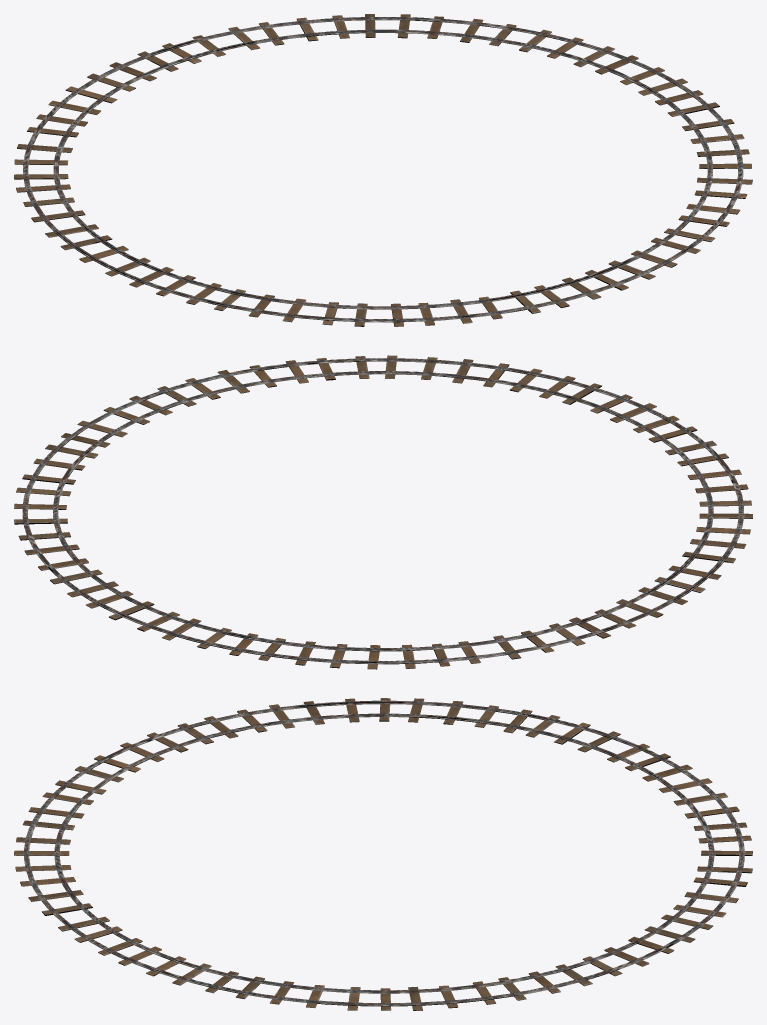
The model's file is foundry_rail_ring.glb.
The picture shows the model from 3 angles, top to bottom: view 1: azimuth 30°, elevation 25°; view 2: azimuth 150°, elevation 25°; view 3: azimuth 270°, elevation 25°; orthographic projection.
Parts seen in each view (by area): view 1: foundry_rail_ring; view 2: foundry_rail_ring; view 3: foundry_rail_ring.
Part boxes in pixels (x1,y1,x2,y2): foundry_rail_ring: (14, 14, 752, 326); foundry_rail_ring: (14, 355, 752, 669); foundry_rail_ring: (14, 698, 752, 1010).
Bounding box in the file's own units: 19.39 × 0.08 × 19.41.
1 material, 1 textured.
